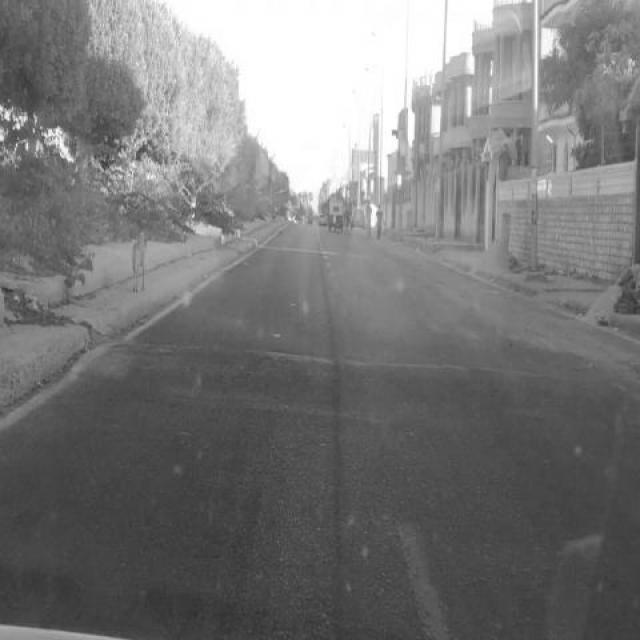Unmarked Bump: (70, 344, 640, 426)
